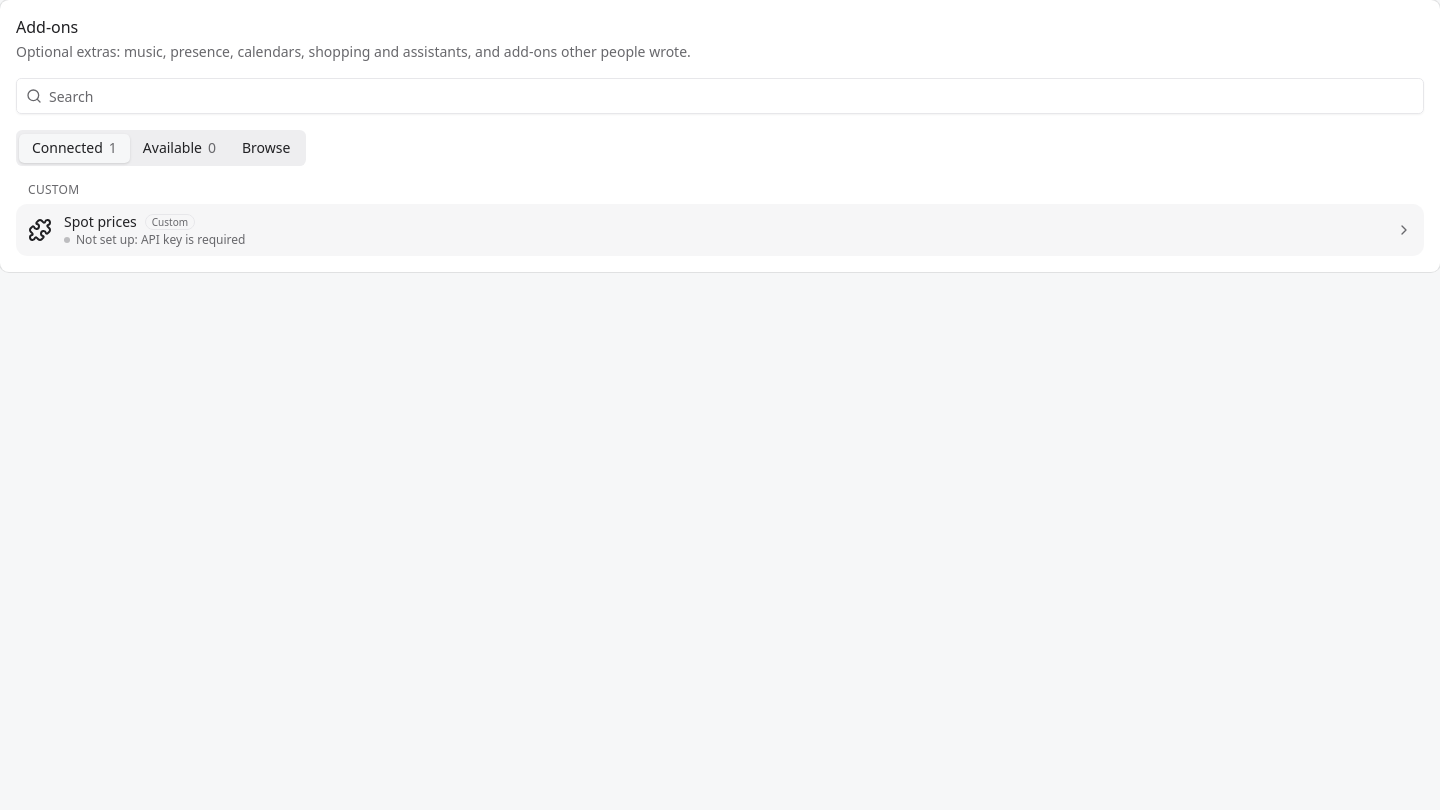
Test: the generated setup panel › refuses a number outside its range without saving
Click the button with aria-label "Configure Spot prices" at (100, 222), box [16,204,1424,256]
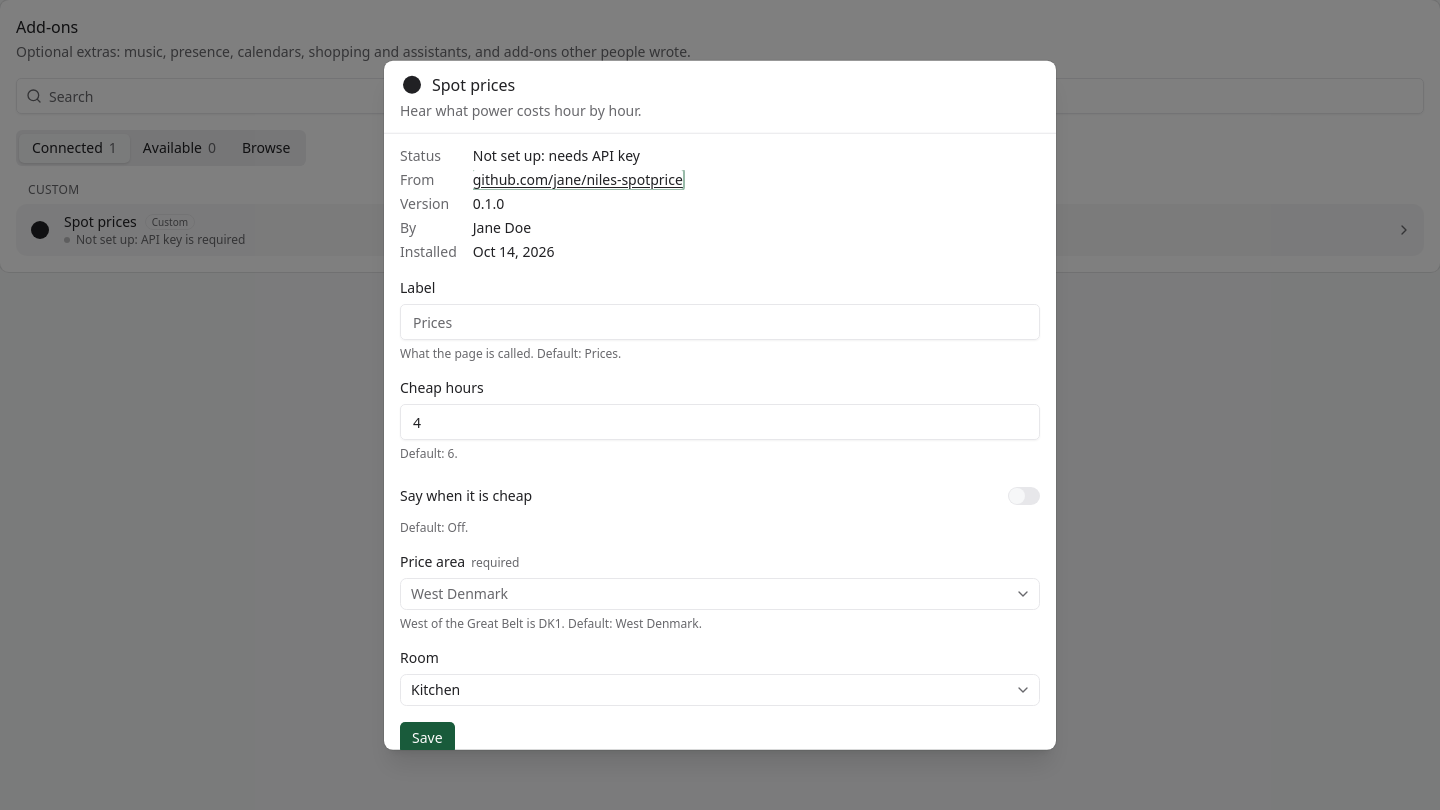
Replace the text in the field named "Cheap hours" with "30" at (720, 422), box [400,404,1040,440]
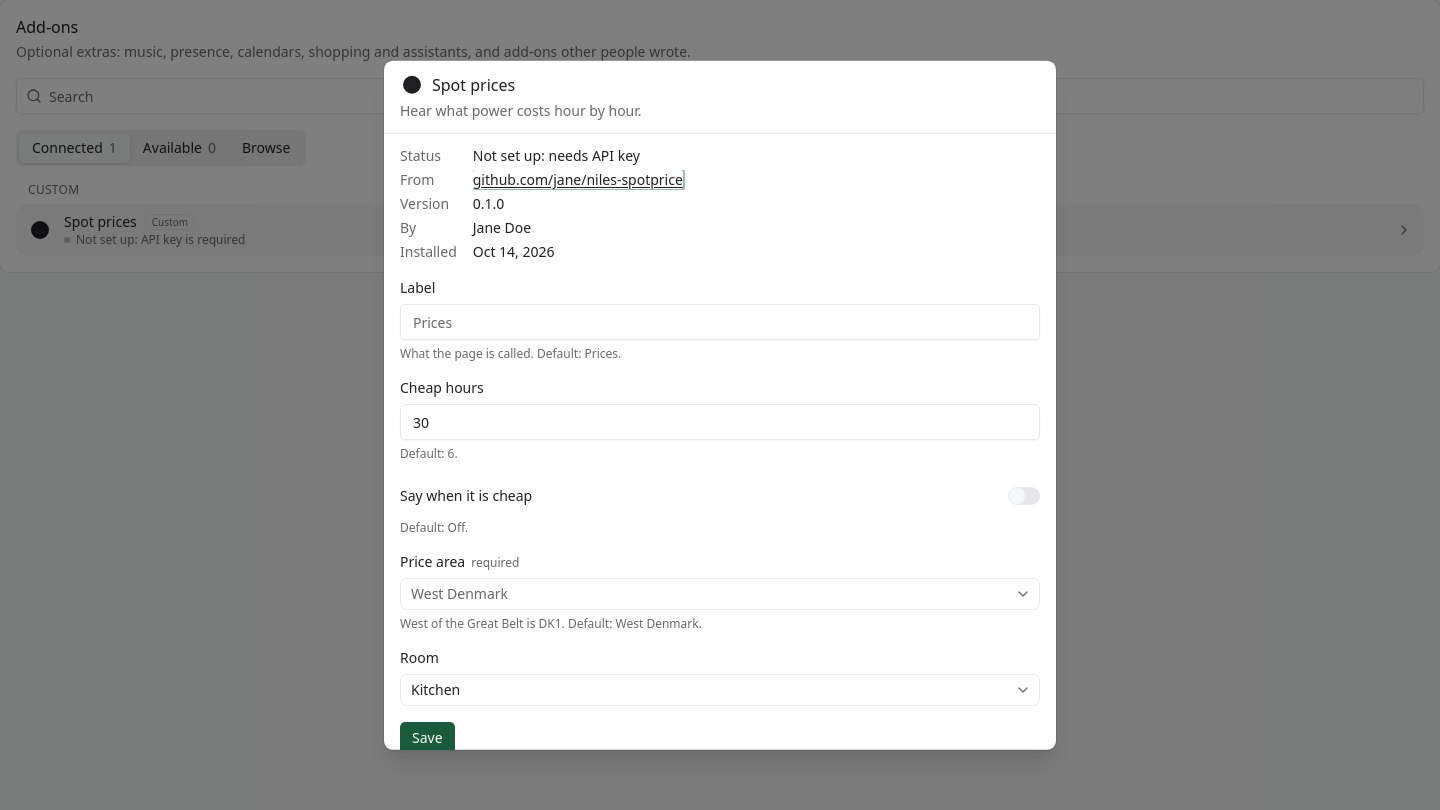
Click the button "Save" at (427, 738), box [400,722,455,754]
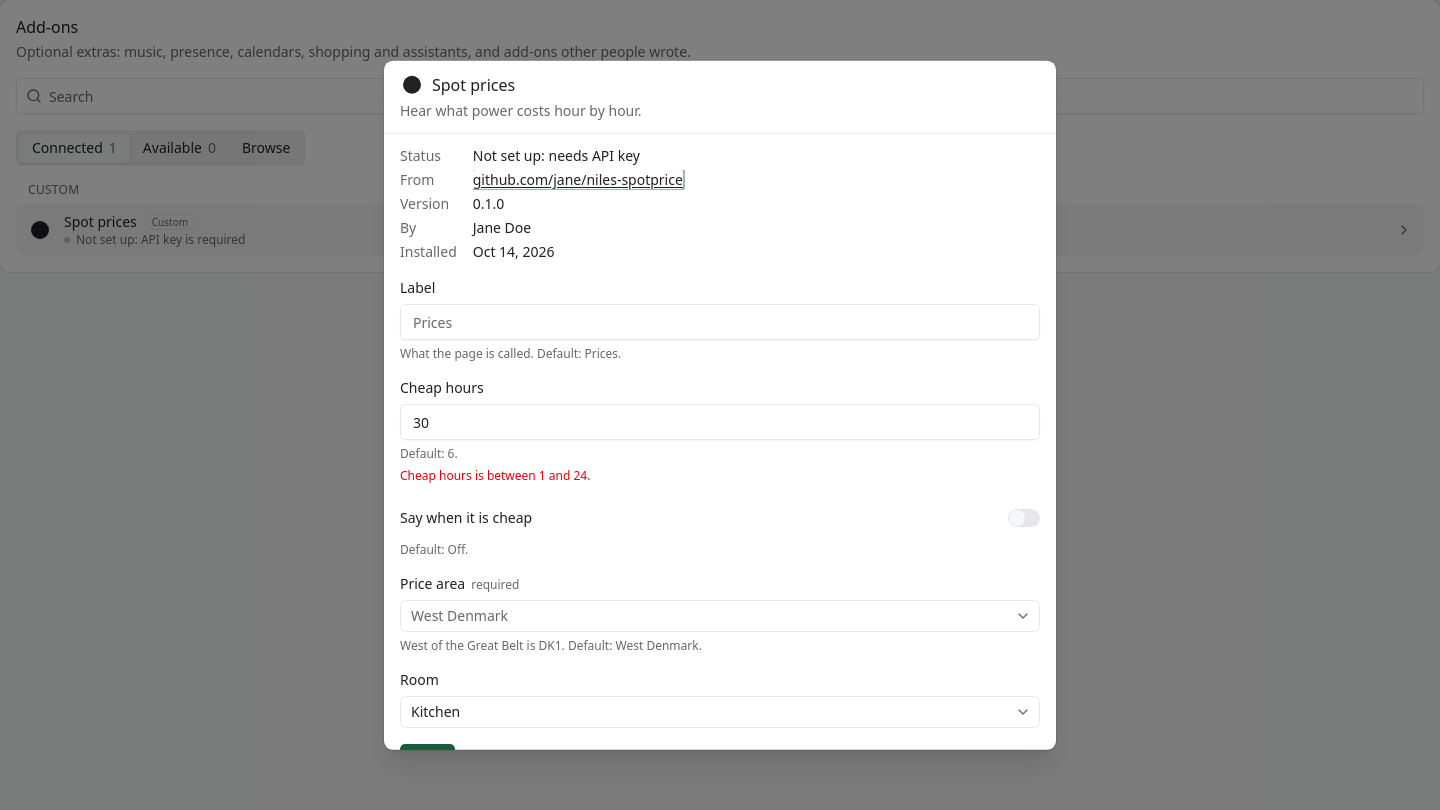
Result: the text "Cheap hours is between 1 and 24." is shown at [400,467,590,484]
